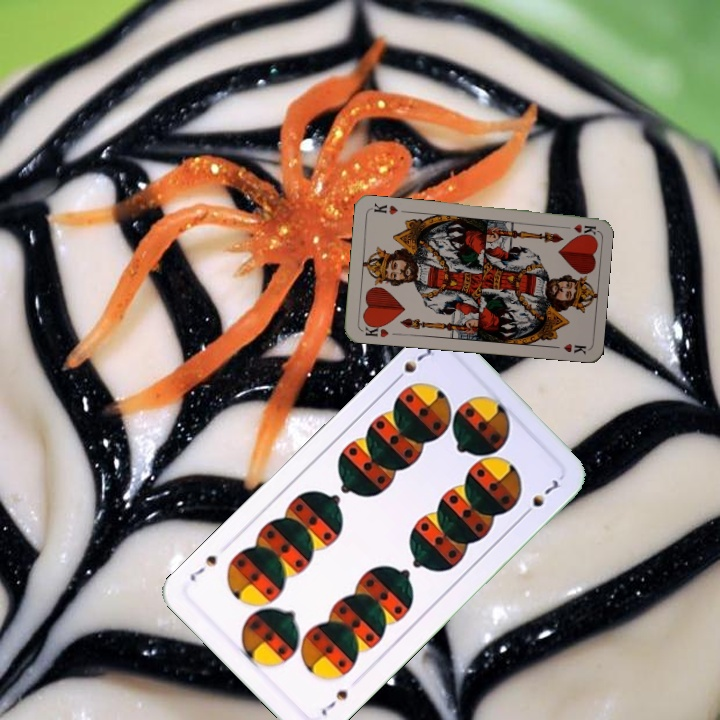HK: (557, 220, 597, 237), (359, 319, 391, 340)
S7: (389, 341, 438, 386), (317, 686, 350, 719)
